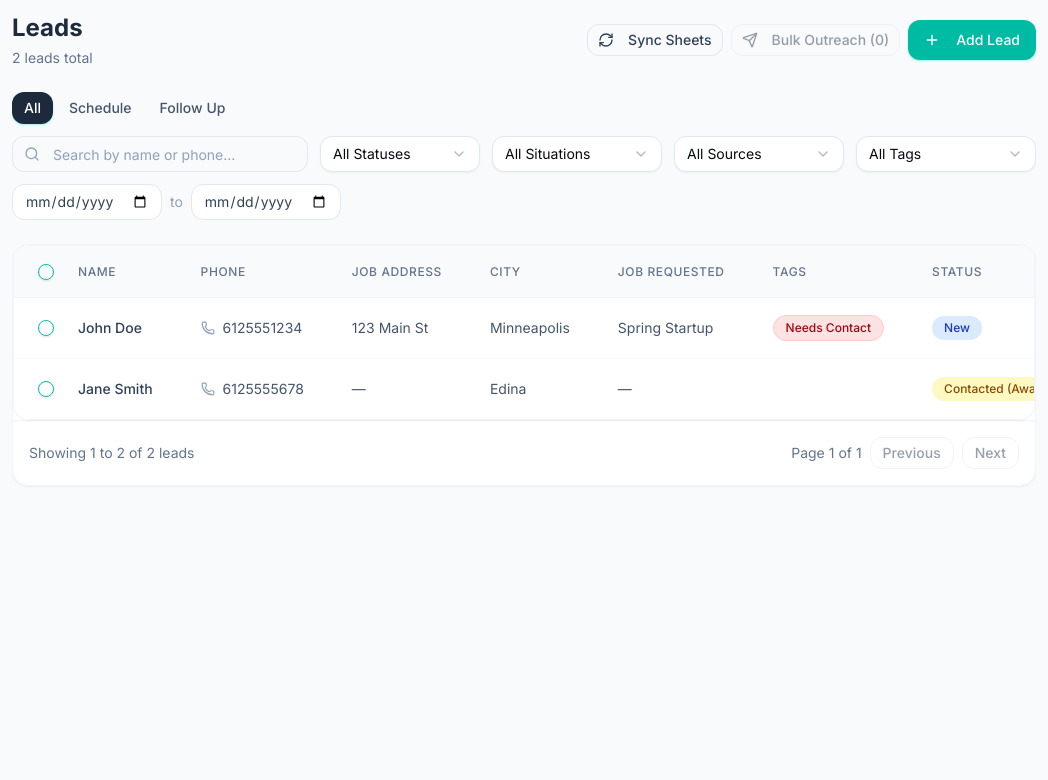
Test: LeadsList › bulk select and Text Selected › selects all rows via select-all checkbox
Click the checkbox with test id "select-all-checkbox" at (46, 272), box top-left (38, 264), bottom-right (54, 280)
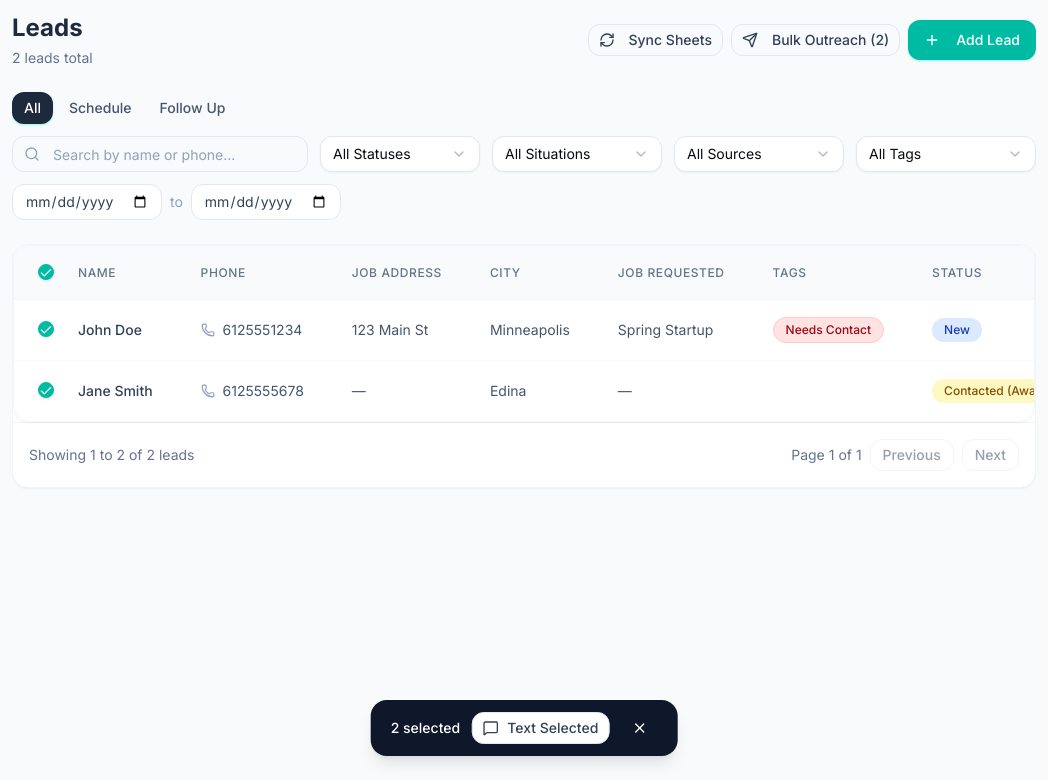
Check: the element with test id "bulk-action-bar" is shown, box top-left (371, 700), bottom-right (677, 756)
Check: the text with test id "selected-count" reads "2 selected", box top-left (391, 718), bottom-right (460, 738)
